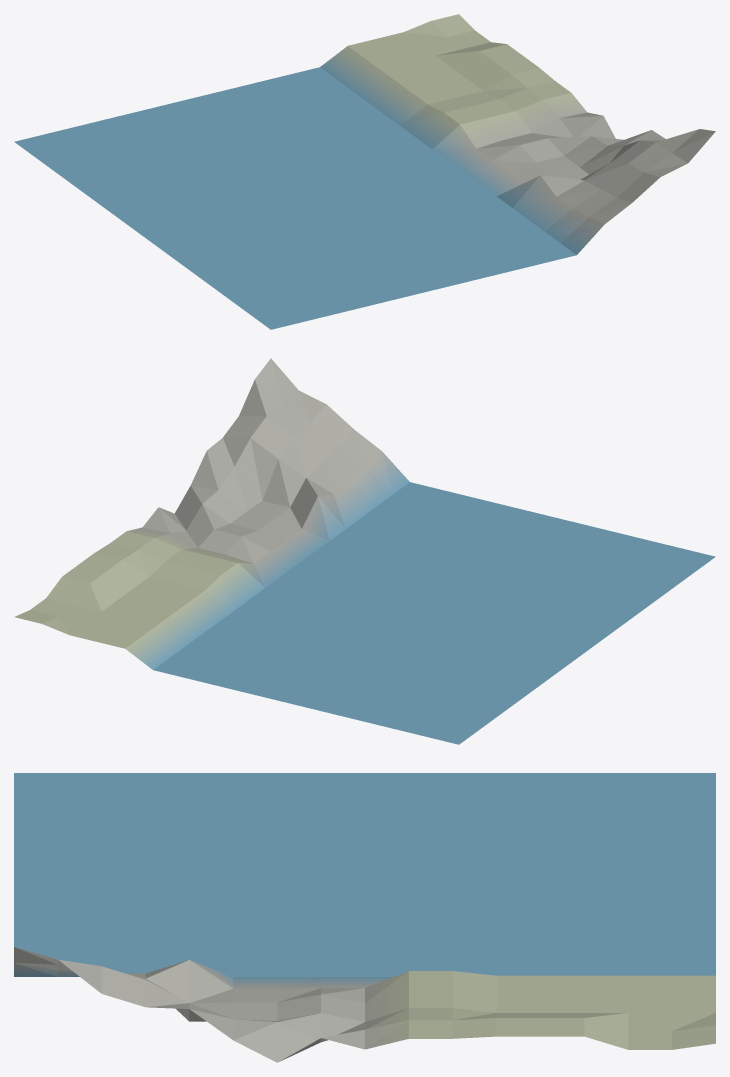
3 renders of one model, top to bottom at view 1: azimuth 30°, elevation 25°; view 2: azimuth 150°, elevation 25°; view 3: azimuth 270°, elevation 25°, orthographic. The views are drawn at different scales.
Size of the model in its own units: 32 by 6.18 by 32.
